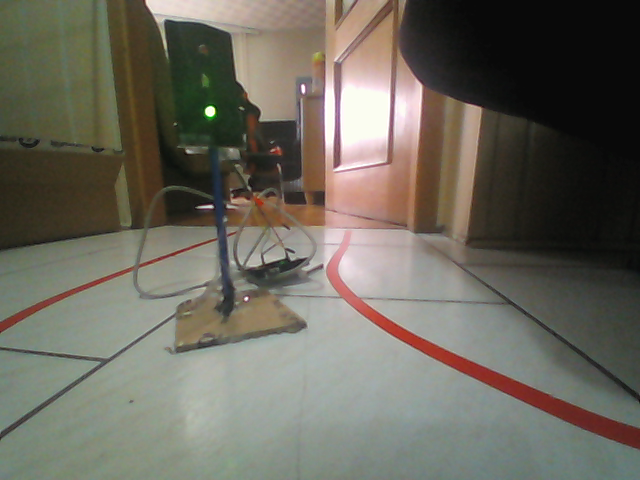green_sign: (159, 17, 247, 151)
